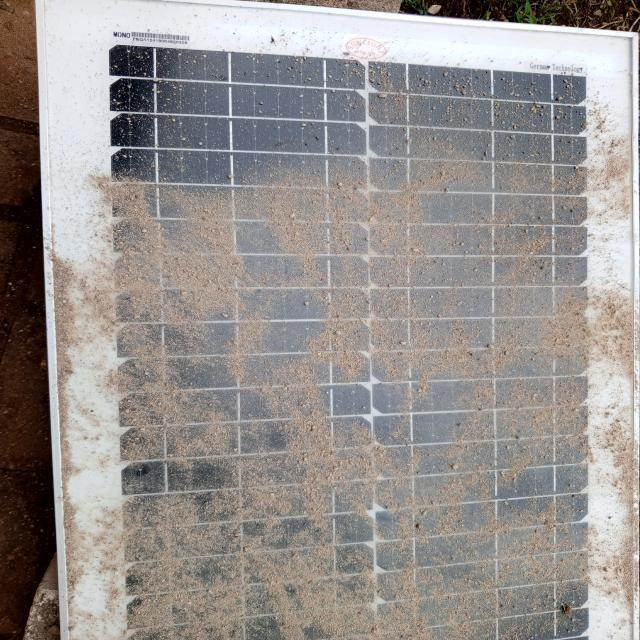Surface Contaminant: (81, 117, 619, 639)
